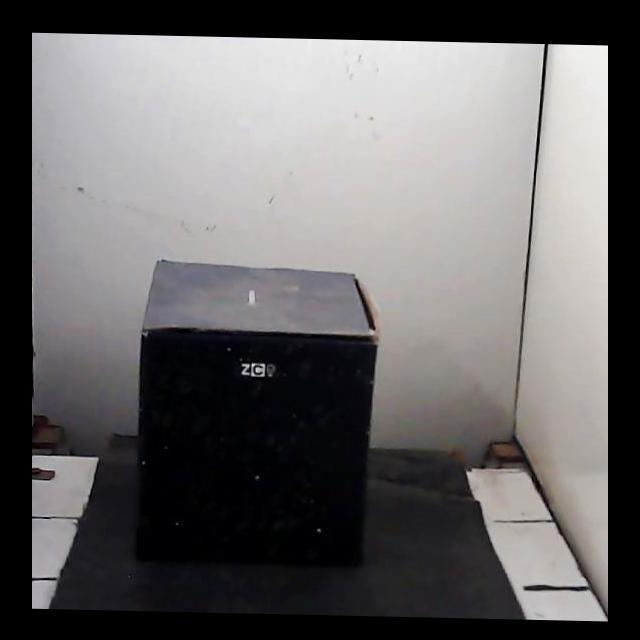papel: (136, 262, 378, 563)
